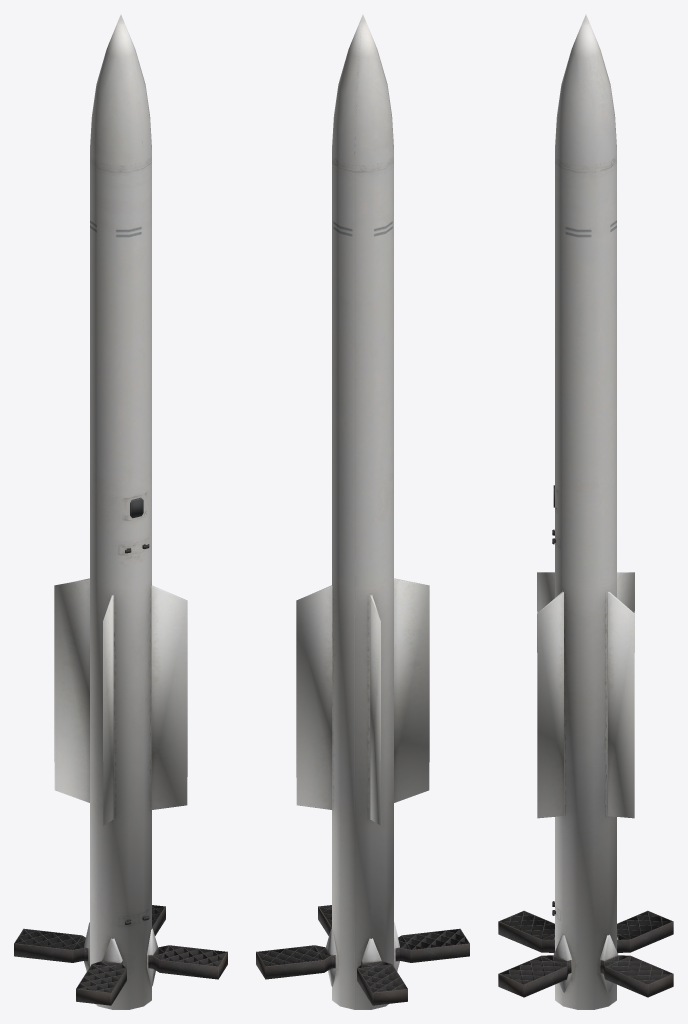
3 renders of one model, left to right at view 1: azimuth 30°, elevation 25°; view 2: azimuth 150°, elevation 25°; view 3: azimuth 270°, elevation 25°, orthographic.
Parts seen in each view (by area): view 1: R-77; view 2: R-77; view 3: R-77.
Boxes of the visible parts, x1,y1,x2,y2 form: R-77: [14, 14, 227, 1009]; R-77: [256, 14, 469, 1009]; R-77: [498, 14, 673, 1009].
Size of the model in its own units: 0.3883 by 2.4 by 0.3883.
Materials: 1 (1 with a texture image).
